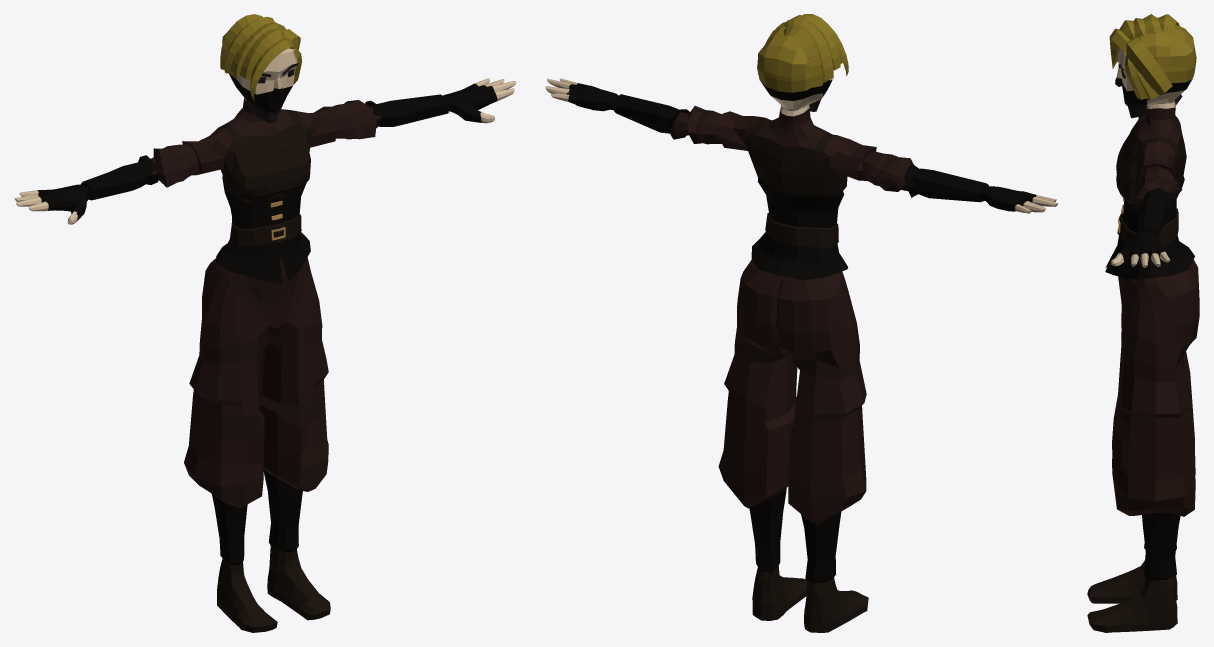
The model's file is Brigant.glb.
3 views of the same model, side by side, from view 1: azimuth 30°, elevation 25°; view 2: azimuth 150°, elevation 25°; view 3: azimuth 270°, elevation 25° (orthographic). The views are drawn at different scales.
Parts seen in each view (by area): view 1: Medieval_Body; view 2: Medieval_Body; view 3: Medieval_Body.
Part boxes in pixels (x1,y1,x2,y2): Medieval_Body: [14, 14, 516, 632]; Medieval_Body: [545, 14, 1058, 632]; Medieval_Body: [1087, 14, 1199, 632].
Size of the model in its own units: 1.65 by 1.84 by 0.3158.
